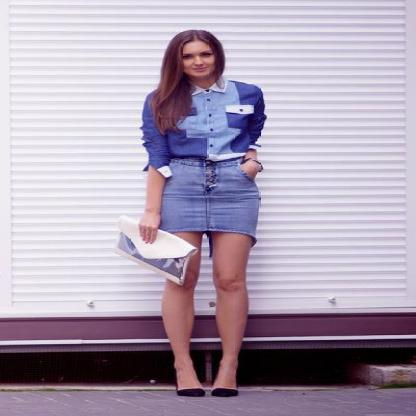bag: (106, 220, 211, 278)
shirt: (140, 75, 266, 170)
shoe: (174, 381, 237, 397)
skirt: (162, 154, 260, 236)
